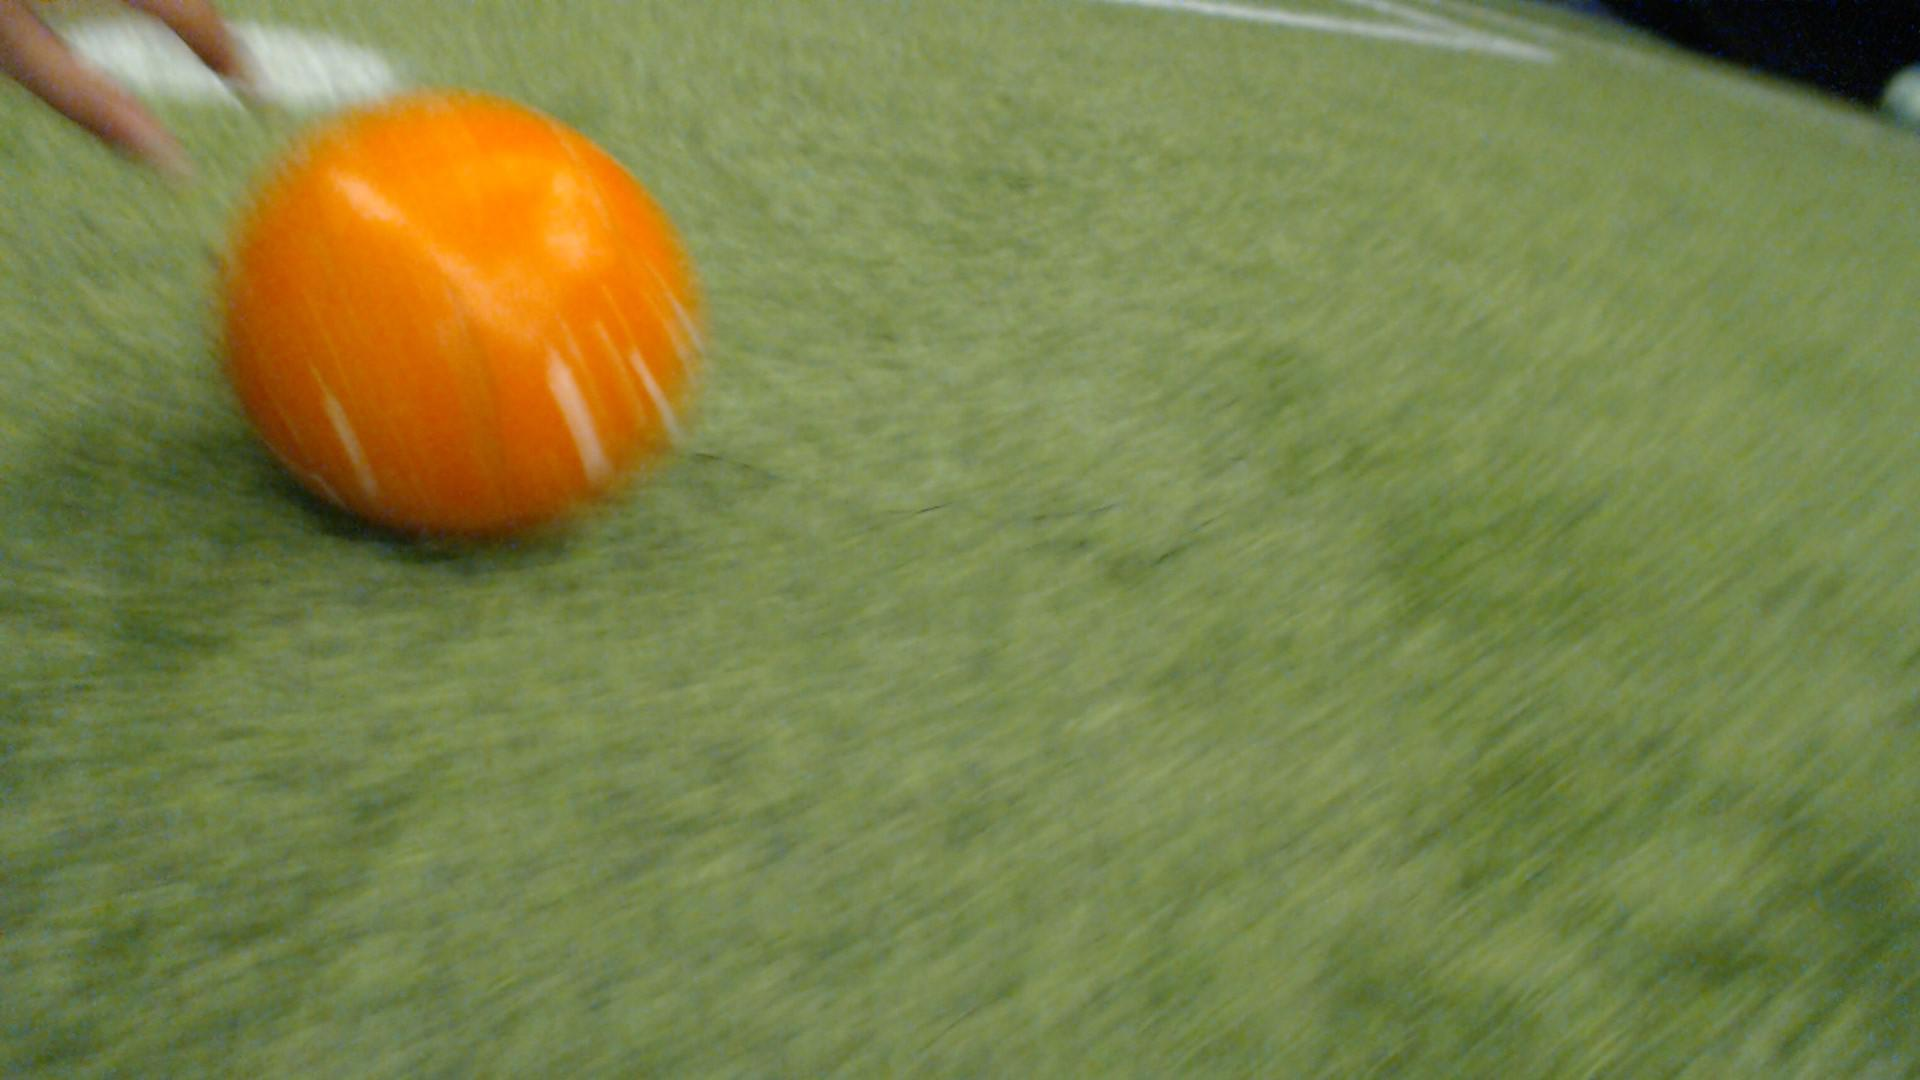bola: (211, 99, 723, 548)
